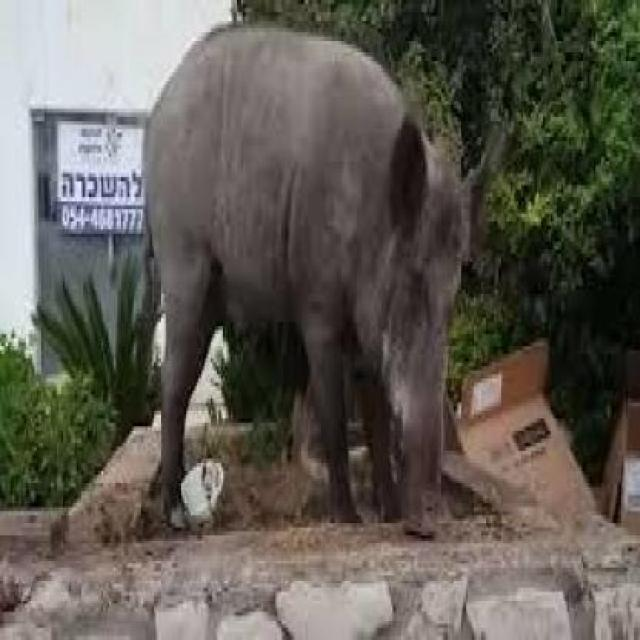wildboar: (142, 14, 495, 532)
